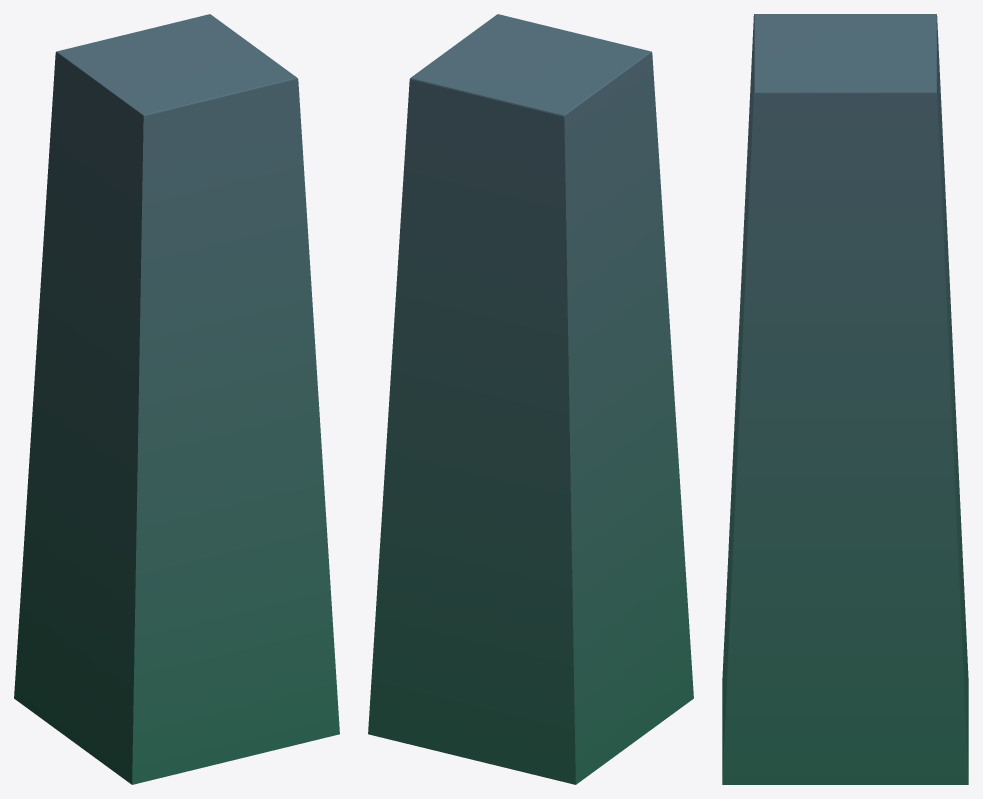
File: ground.fbx
3 renders of one model, left to right at view 1: azimuth 30°, elevation 25°; view 2: azimuth 150°, elevation 25°; view 3: azimuth 270°, elevation 25°, orthographic. The views are drawn at different scales.
Visible parts, largest first — view 1: ground; view 2: ground; view 3: ground.
Part boxes in pixels (x1,y1,x2,y2): ground: [14, 14, 339, 784]; ground: [368, 14, 693, 784]; ground: [722, 14, 968, 784].
Bounding box in the file's own units: 8534 × 25584 × 8401.
